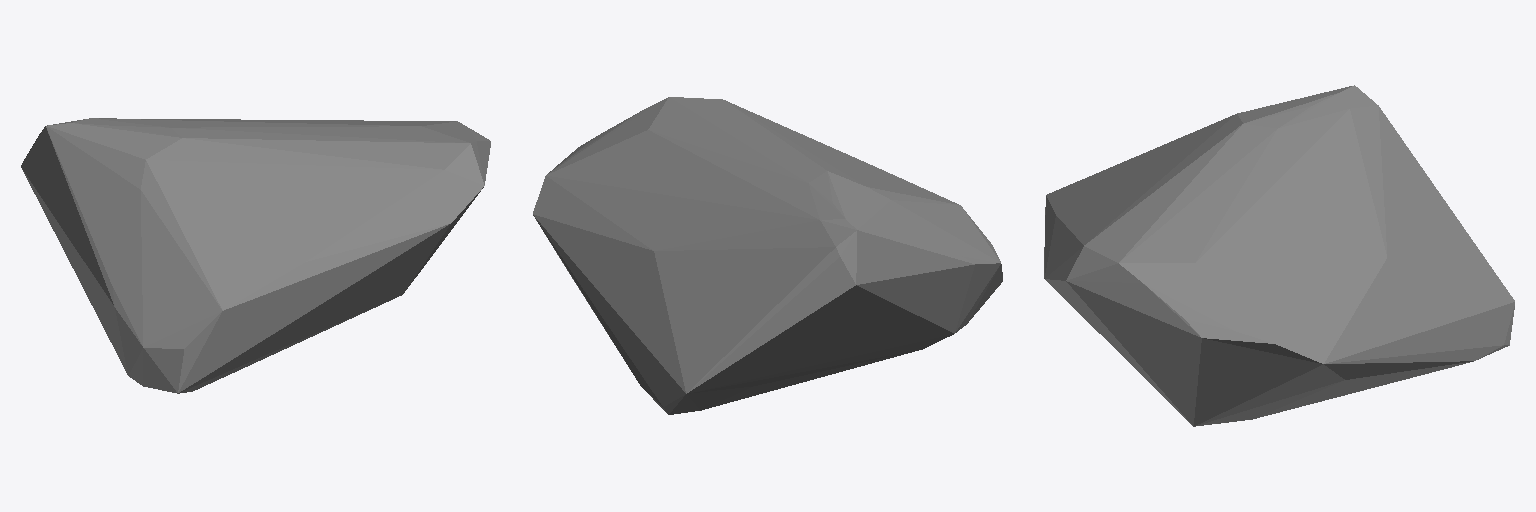
URDF robot description (70_449):
<?xml version="1.0"?>
<robot name="70_449">
  <link name="link">
    <contact>
      <lateral_friction value="0.6"/>
    </contact>
    <inertial>
      <origin xyz="-0.005664580651412051 -0.006718081428710862 -0.0017774810770977418" rpy="0 0 0"/>
      <mass value = "0.4294556105349074"/>
      <inertia ixx="0.0002105138710526048" ixy="-2.74486792882332e-06" ixz="7.864407223190008e-06" iyy="0.0002535668054671229" iyz="-1.0851150855719037e-05" izz="0.00036604664175292616" />
    </inertial>
    <visual name="visual">
      <geometry>
        <mesh filename="70_449.obj"/>
      </geometry>
      <material name="material">
        <color rgba="0.5604116206890791 0.5604116206890791 0.5604116206890791 1.0"/>
      </material>
    </visual>
    <collision name="collision">
      <geometry>
        <mesh filename="70_449.obj"/>
      </geometry>
    </collision>
  </link>
</robot>

--- What the picture shows (computed from the rendered views, not written in the file) ---
The picture shows the robot from 3 angles, left to right: view 1: azimuth 30°, elevation 25°; view 2: azimuth 150°, elevation 25°; view 3: azimuth 270°, elevation 25°; orthographic projection.
Model 70_449 with 1 links and 0 joints (none), rooted at link, posed every joint at zero.
Links seen in each view (by area): view 1: link; view 2: link; view 3: link.
Boxes of the visible links, <box> form: link: <box>21,118,490,393</box>; link: <box>533,97,1002,414</box>; link: <box>1044,85,1514,426</box>.
Bounding box of the posed robot: 0.098 × 0.0926 × 0.0451 m (x, y, z).
Meshes: 1 distinct files referenced, 1 mesh visuals loaded (1 OBJ).
